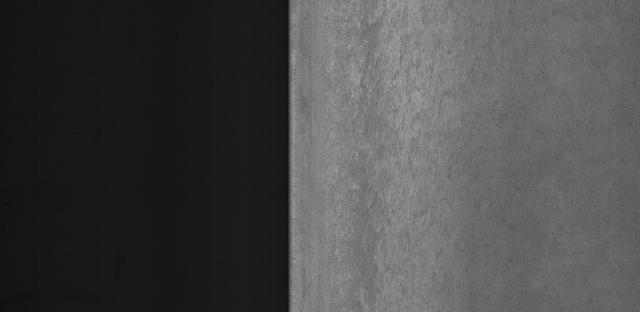silk_spot: (338, 25, 443, 292)
